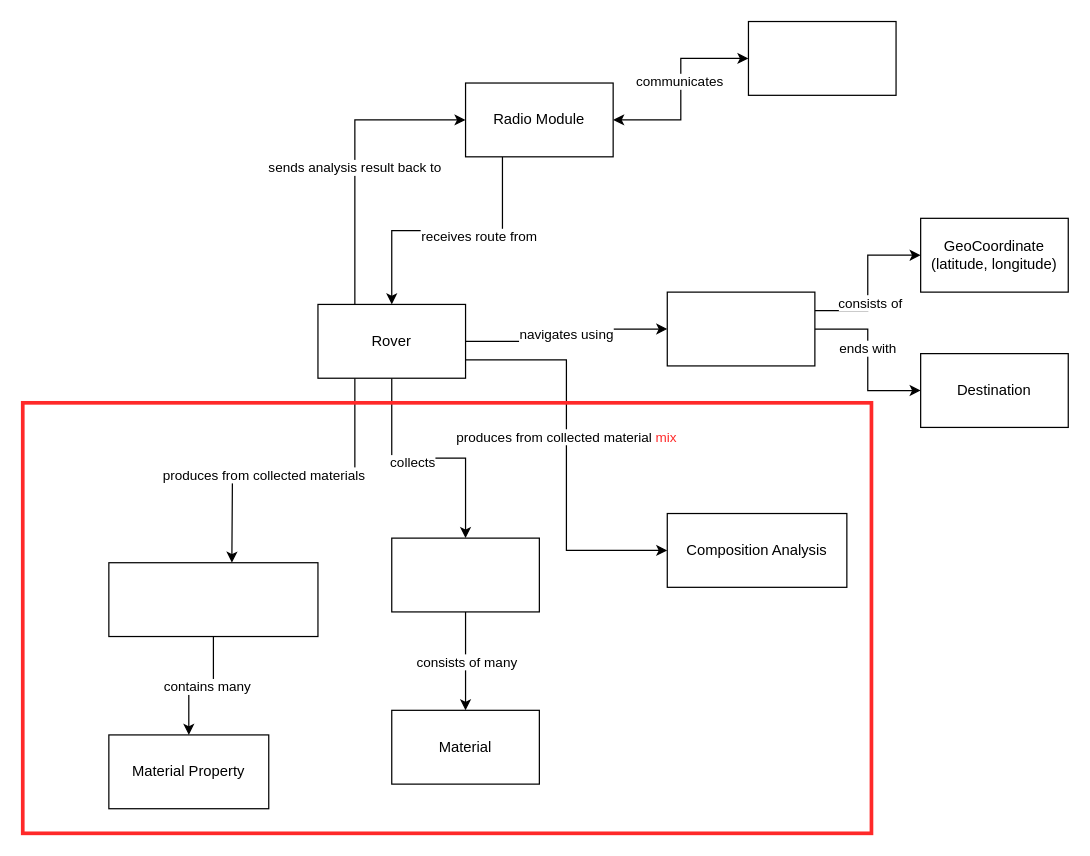
This 1090x856 diagram has some shape labels left out. Here are the shapes that lost their labels. From the top down, the centre of each, then its label:
the point at 821,57: Earth
the point at 740,328: Route
the point at 465,574: Material Mix
the point at 213,599: Material Property Analysis
